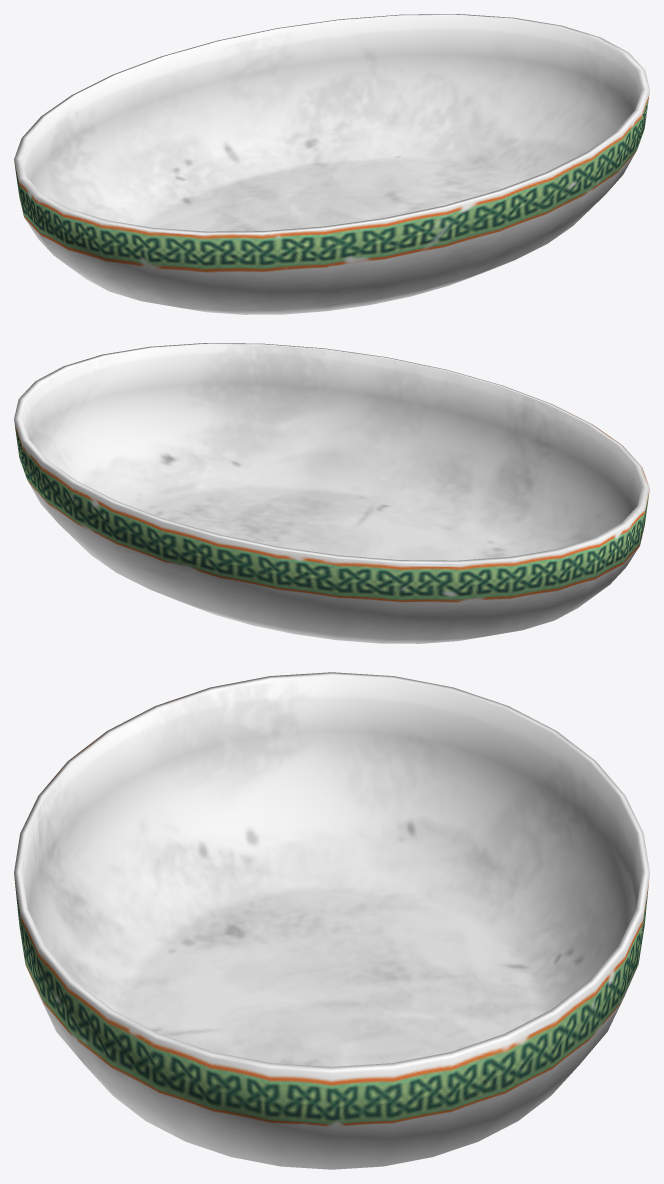
Rendered from sb_obj_indoor006_Plate03.fbx.
The picture shows the model from 3 angles, top to bottom: view 1: azimuth 30°, elevation 25°; view 2: azimuth 150°, elevation 25°; view 3: azimuth 270°, elevation 25°; orthographic projection. The views are drawn at different scales.
Visible parts, largest first — view 1: Plate3; view 2: Plate3; view 3: Plate3.
Boxes of the visible parts, box(x1,y1,x2,y2) form: Plate3: box(14, 14, 649, 314); Plate3: box(14, 343, 649, 643); Plate3: box(14, 672, 649, 1169).
Bounding box in the file's own units: 0.3677 × 0.0684 × 0.2465.
